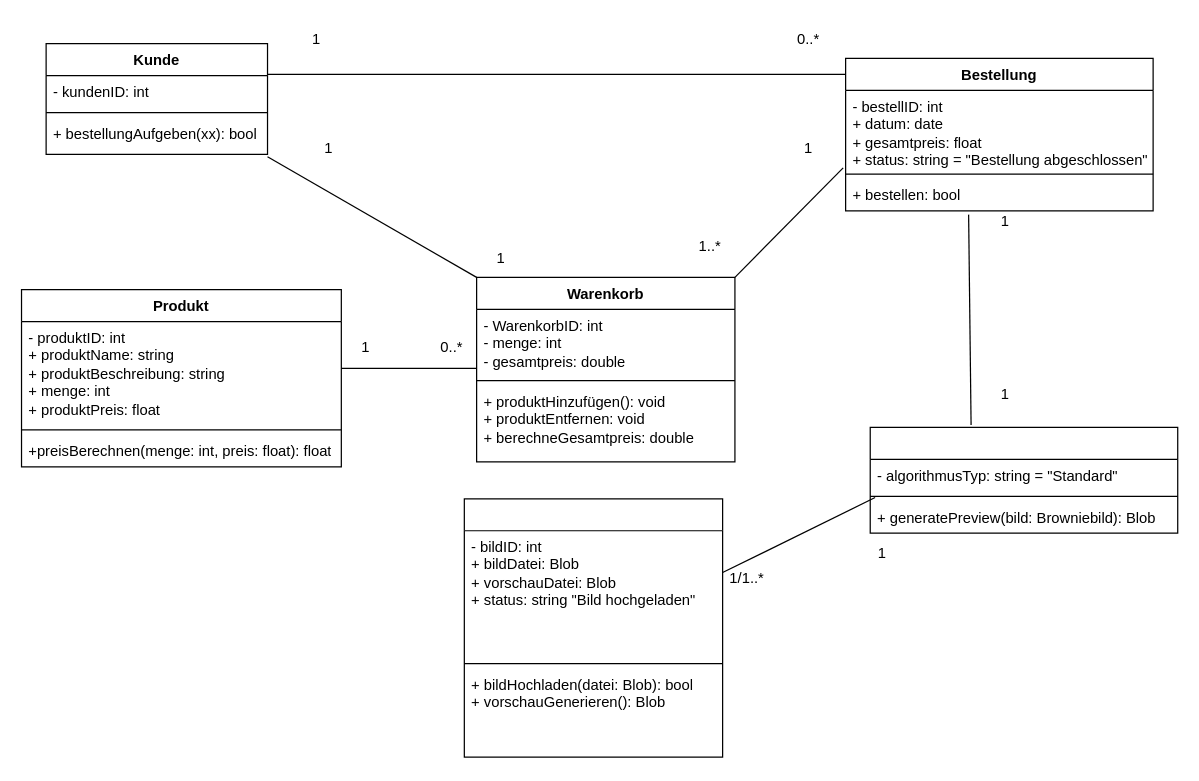
Image size: 1199x781. Some labels were removed from this diagram. The shapes that lost their labels are listed below. From the top down, each one's box as (x1, y1, x2, y2) in pixels, then its label:
(869, 426, 1178, 533): Visualisierungsservice
(463, 498, 723, 757): BrownieBild
